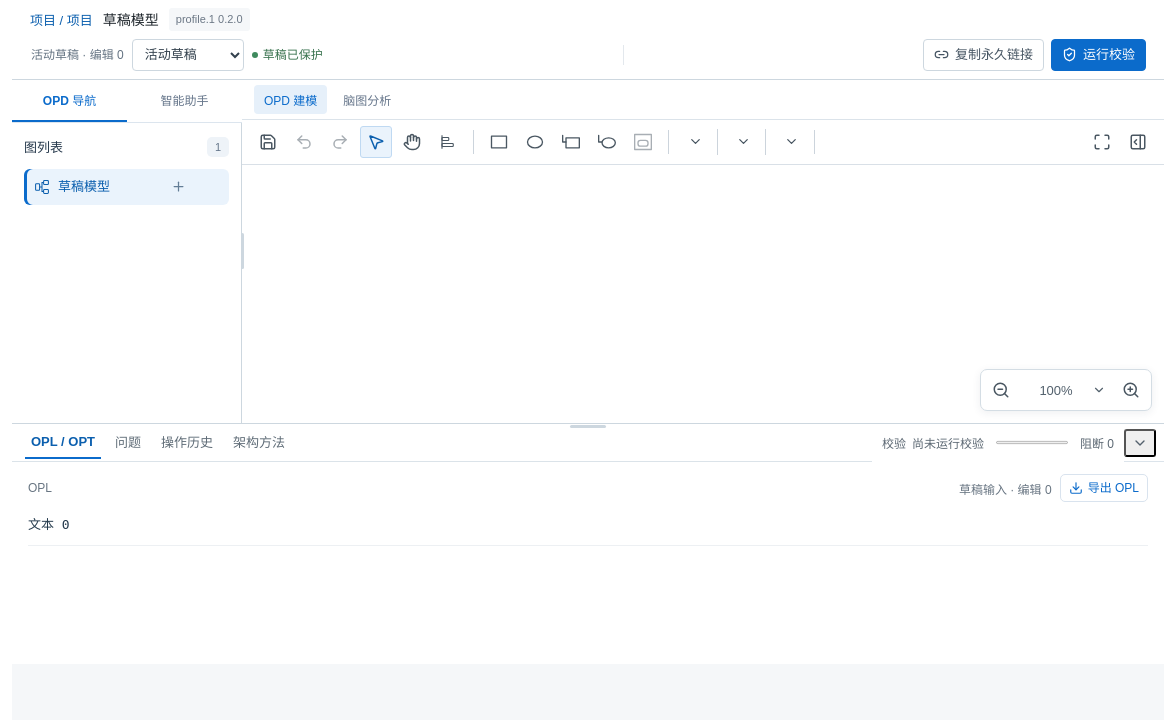
Scenario: WorkbenchView › V2 保存等待在途编辑，后续编辑不被旧保存响应回滚
Click the button with test id "p03-tool-object": point(499, 142) [483, 126, 515, 158]
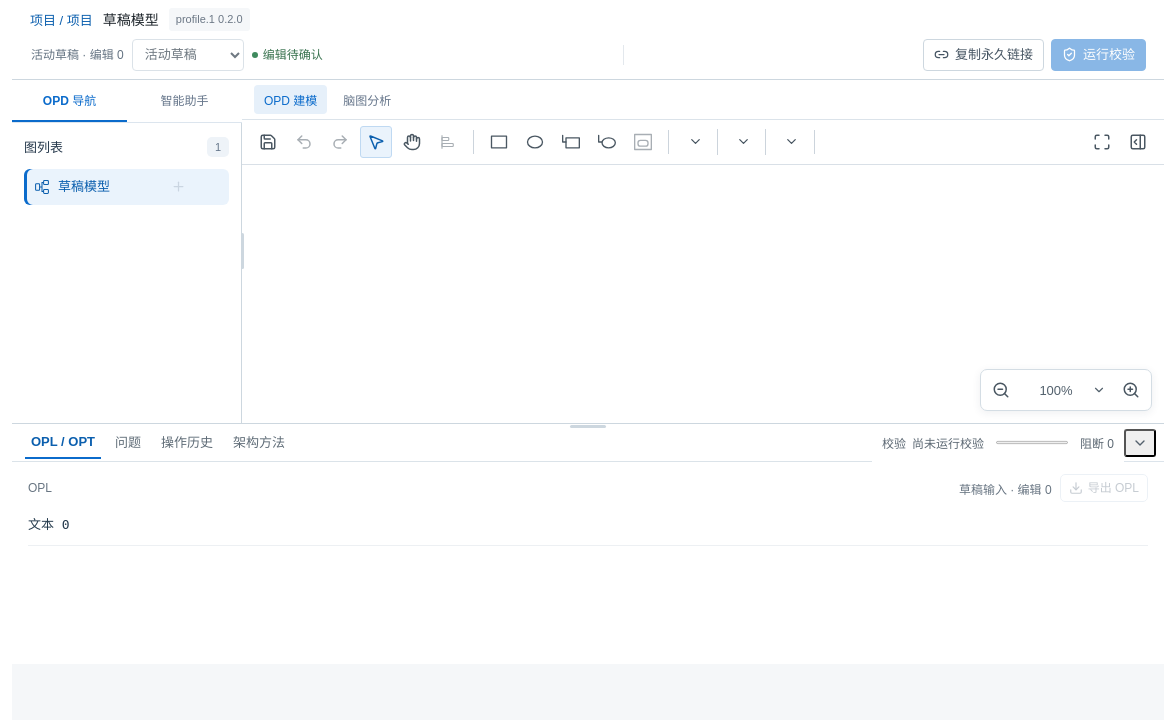
Click the button with test id "hs-save": point(268, 142) [252, 126, 284, 158]
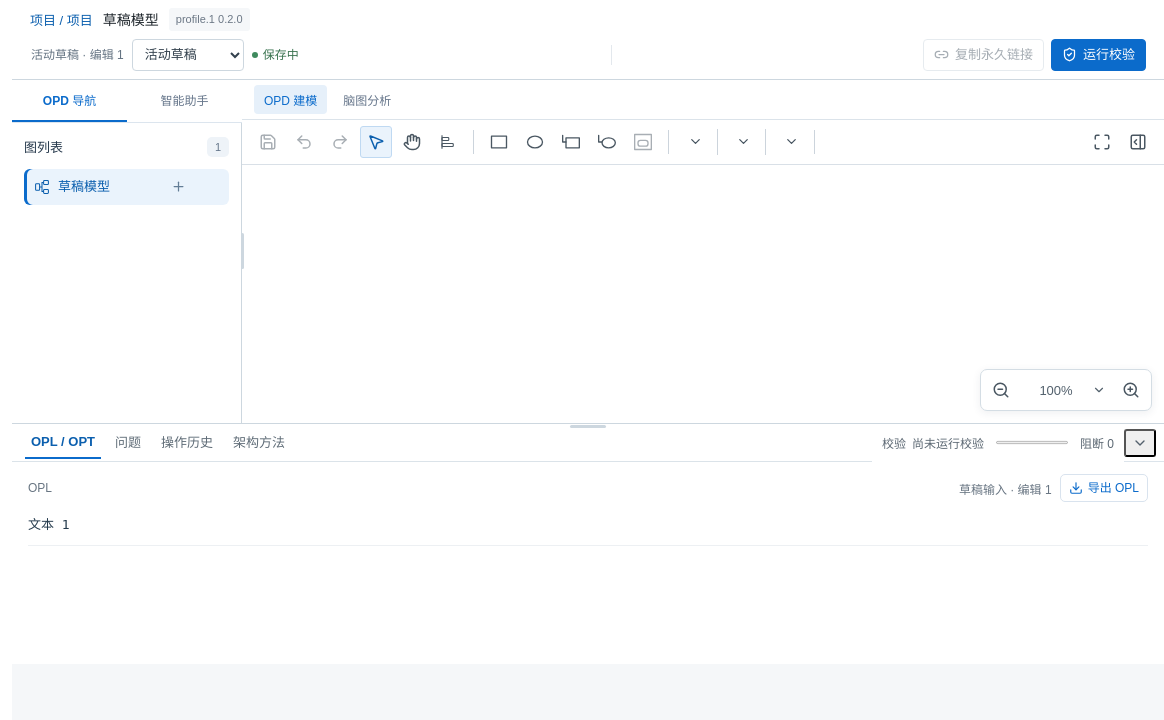
Click the button with test id "p03-tool-object": point(499, 142) [483, 126, 515, 158]
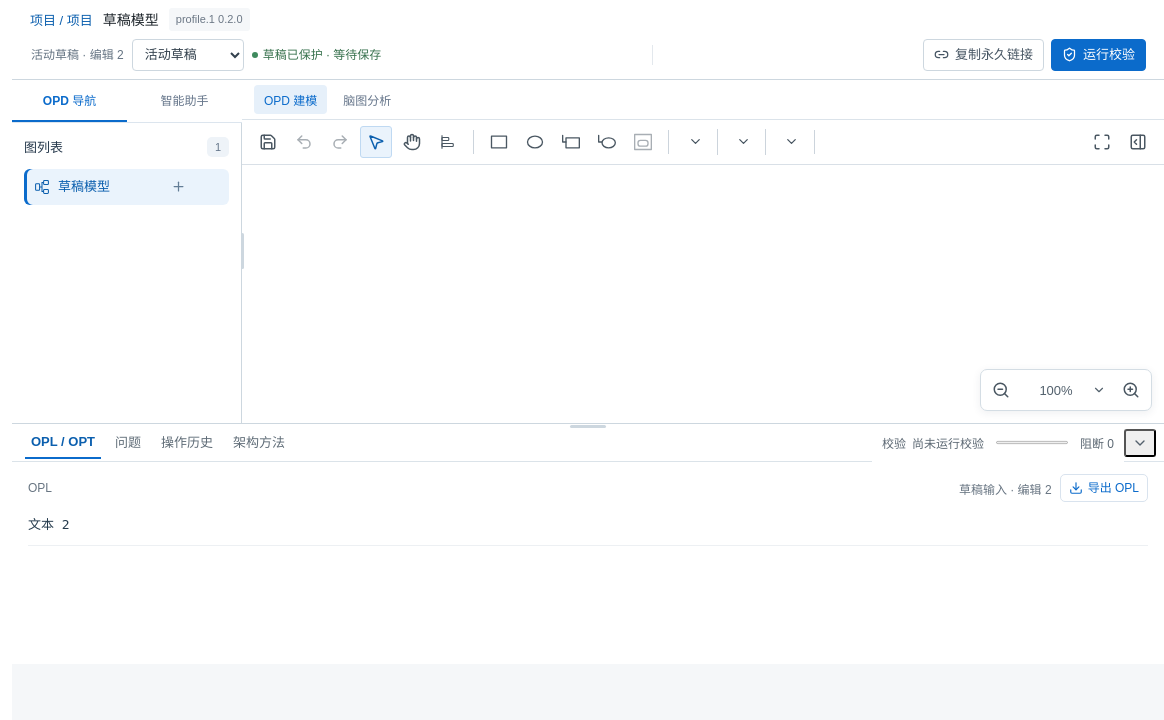
Expected: the text with test id "hs-draft-identity" shows "编辑 2", [31, 48, 124, 62]
Expected: the message with test id "hs-save-state" shows "等待保存", [263, 48, 381, 62]
